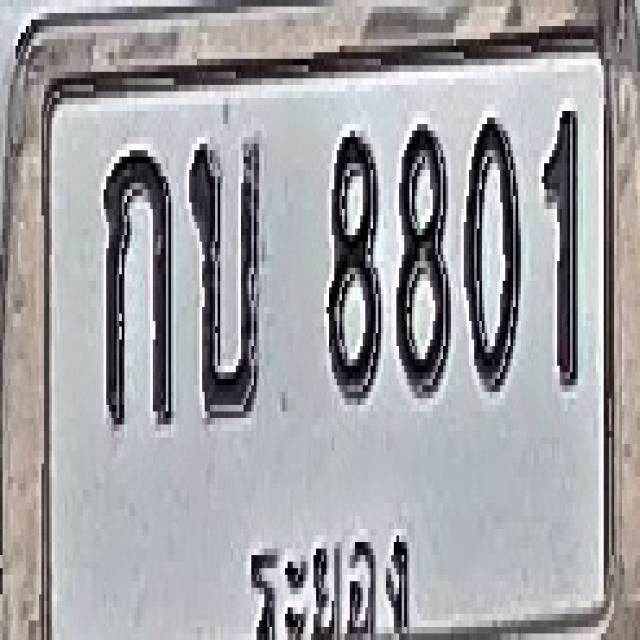0: (464, 111, 521, 392)
1: (541, 104, 578, 386)
8: (326, 127, 381, 402), (395, 121, 450, 395)
A01: (102, 144, 172, 431)
A26: (188, 134, 260, 421)
RYG: (238, 523, 421, 640)
